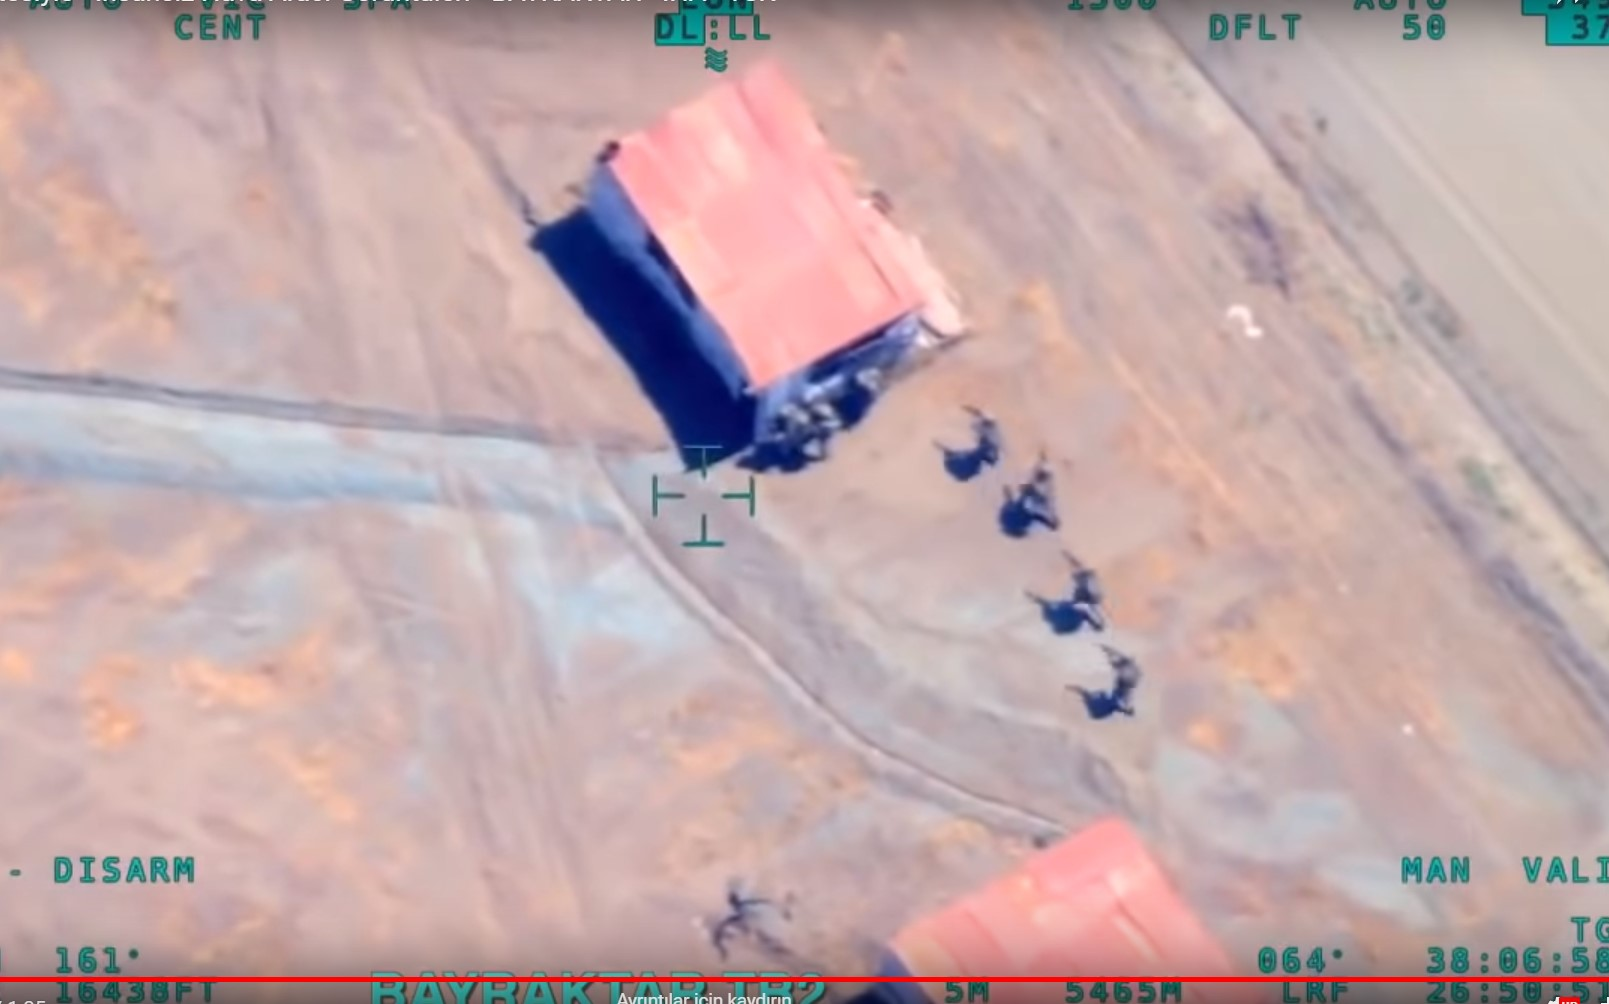insan: (1102, 637, 1145, 716), (1063, 550, 1102, 623), (1020, 451, 1056, 528), (965, 404, 1001, 469)
